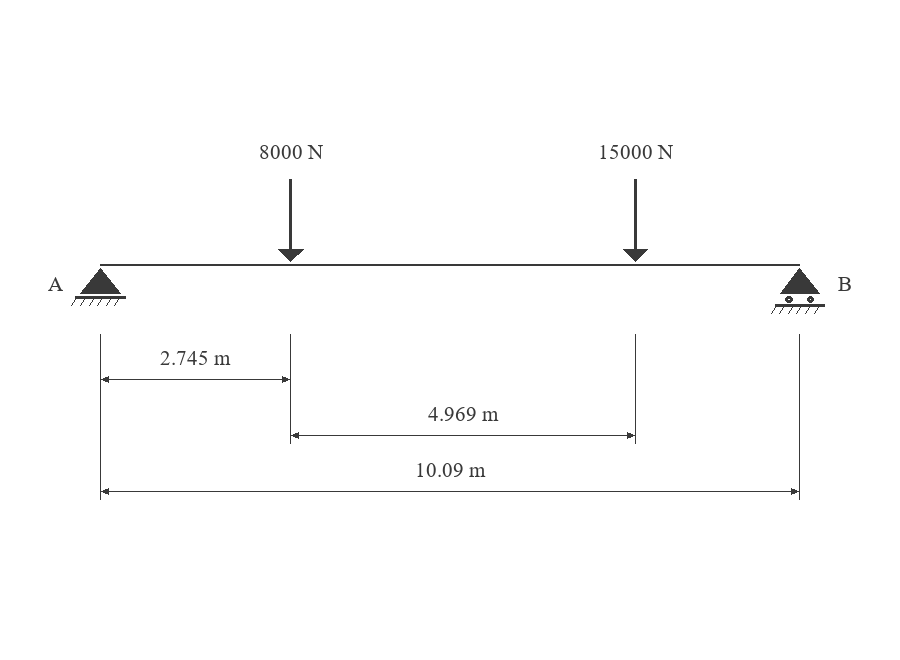pin_support: (71, 268, 126, 306)
point_load: (278, 179, 304, 262), (623, 179, 648, 262)
roller_support: (771, 268, 825, 314)
